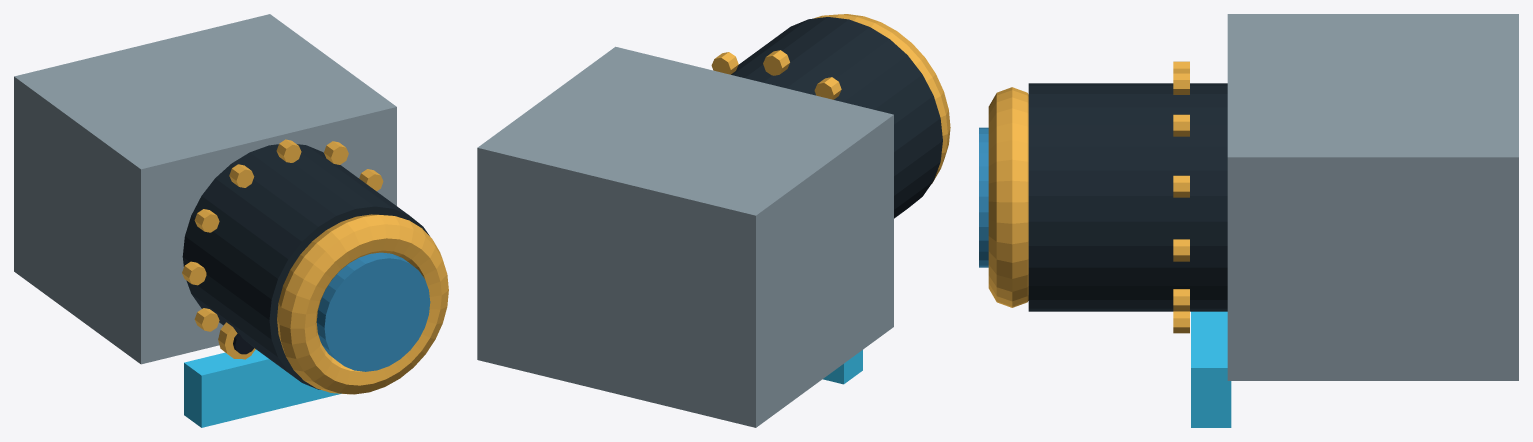
File: 38_L84_StarTrackerOpticalBaffle.fbx
The picture shows the model from 3 angles, left to right: view 1: azimuth 30°, elevation 25°; view 2: azimuth 150°, elevation 25°; view 3: azimuth 270°, elevation 25°; orthographic projection. The views are drawn at different scales.
Visible parts, largest first — view 1: L84_StarTrackerOpticalBaffle, L84_StarTrackerOpticalBaffle_Part_0006; view 2: L84_StarTrackerOpticalBaffle; view 3: L84_StarTrackerOpticalBaffle.
Boxes of the visible parts, x1,y1,x2,y2 form: L84_StarTrackerOpticalBaffle: (14, 14, 448, 427); L84_StarTrackerOpticalBaffle_Part_0006: (218, 322, 255, 358); L84_StarTrackerOpticalBaffle: (477, 14, 950, 427); L84_StarTrackerOpticalBaffle: (979, 14, 1518, 427).
Bounding box in the file's own units: 92 × 92.2 × 146.
